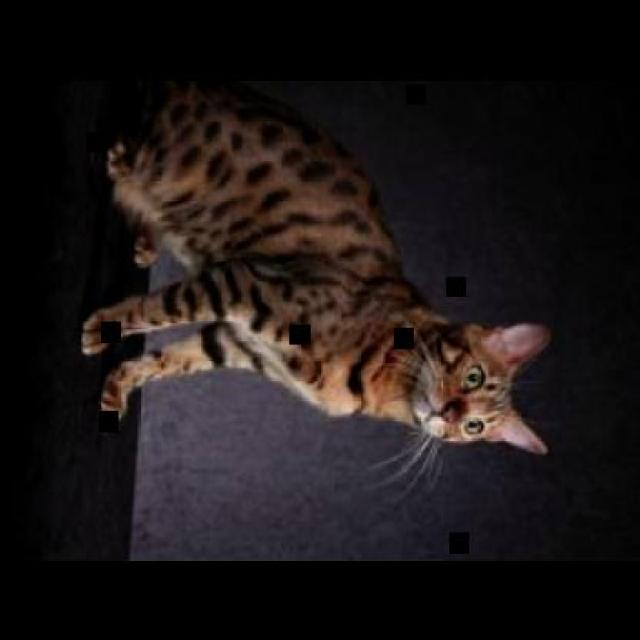unauthorized: (79, 76, 552, 496)
